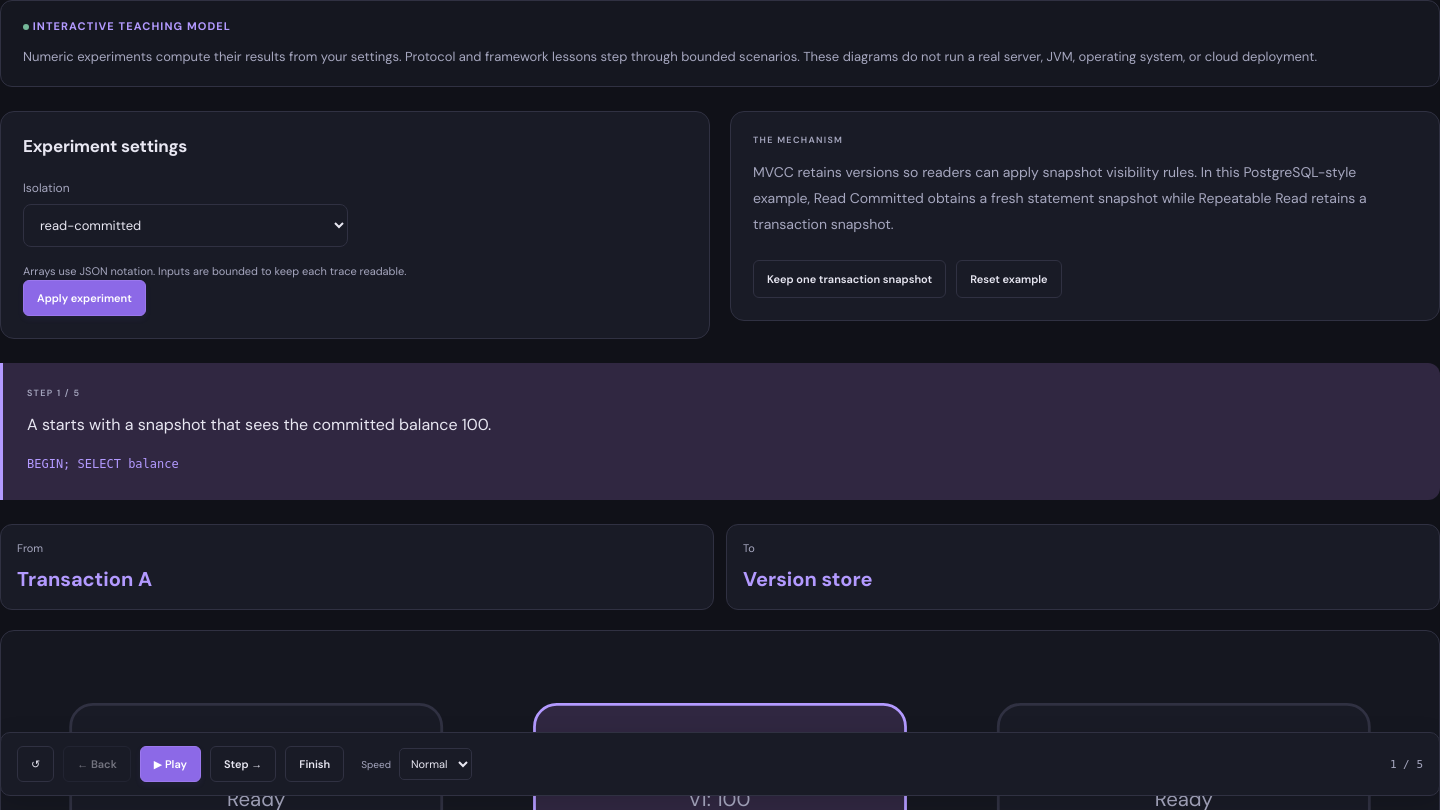
it: db-mvcc renders and supports finish, back, contrast and reset
The image size is (1440, 810).
Click the button "Finish": (315,764) [285,746,344,782]
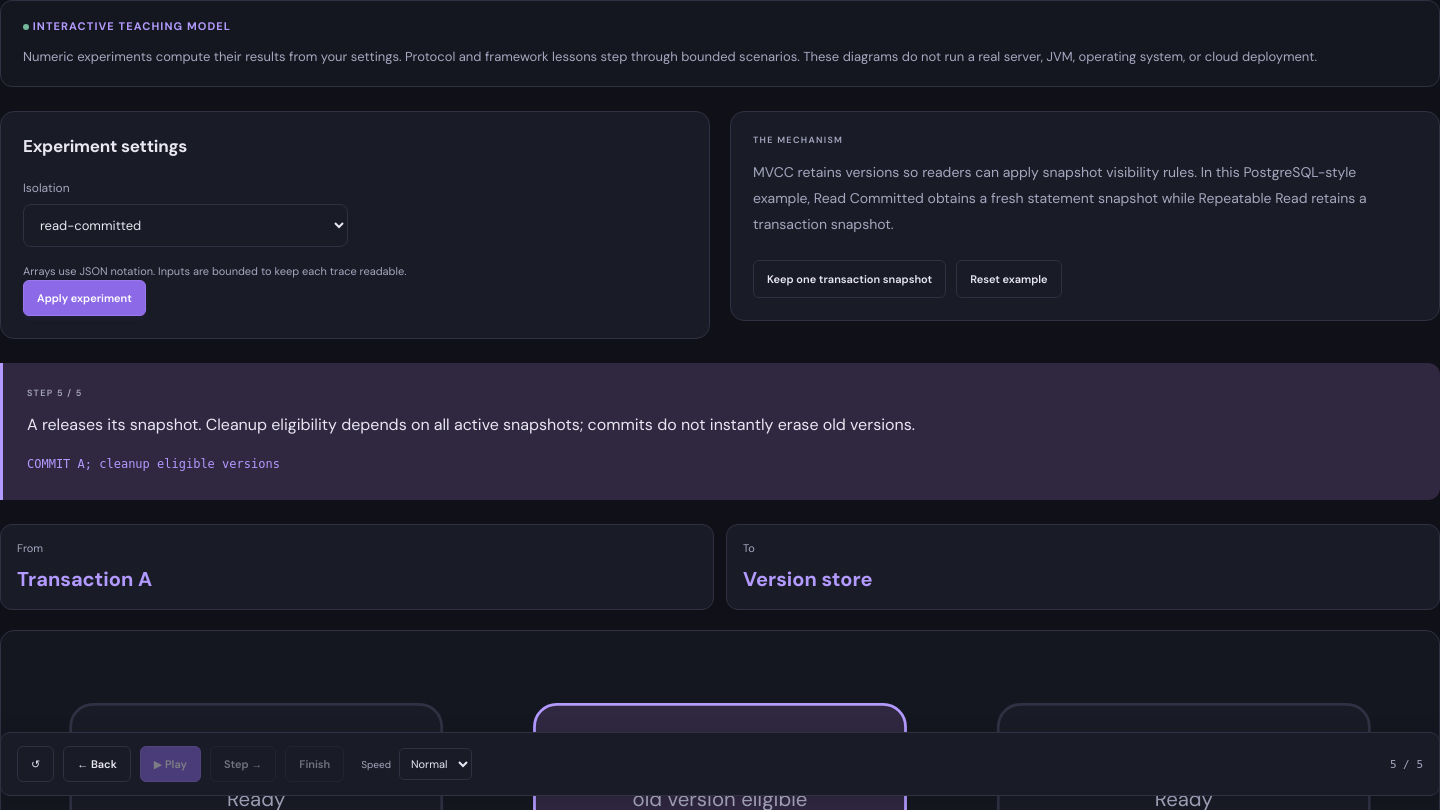
Click the button "← Back": (97,764) [63,746,131,782]
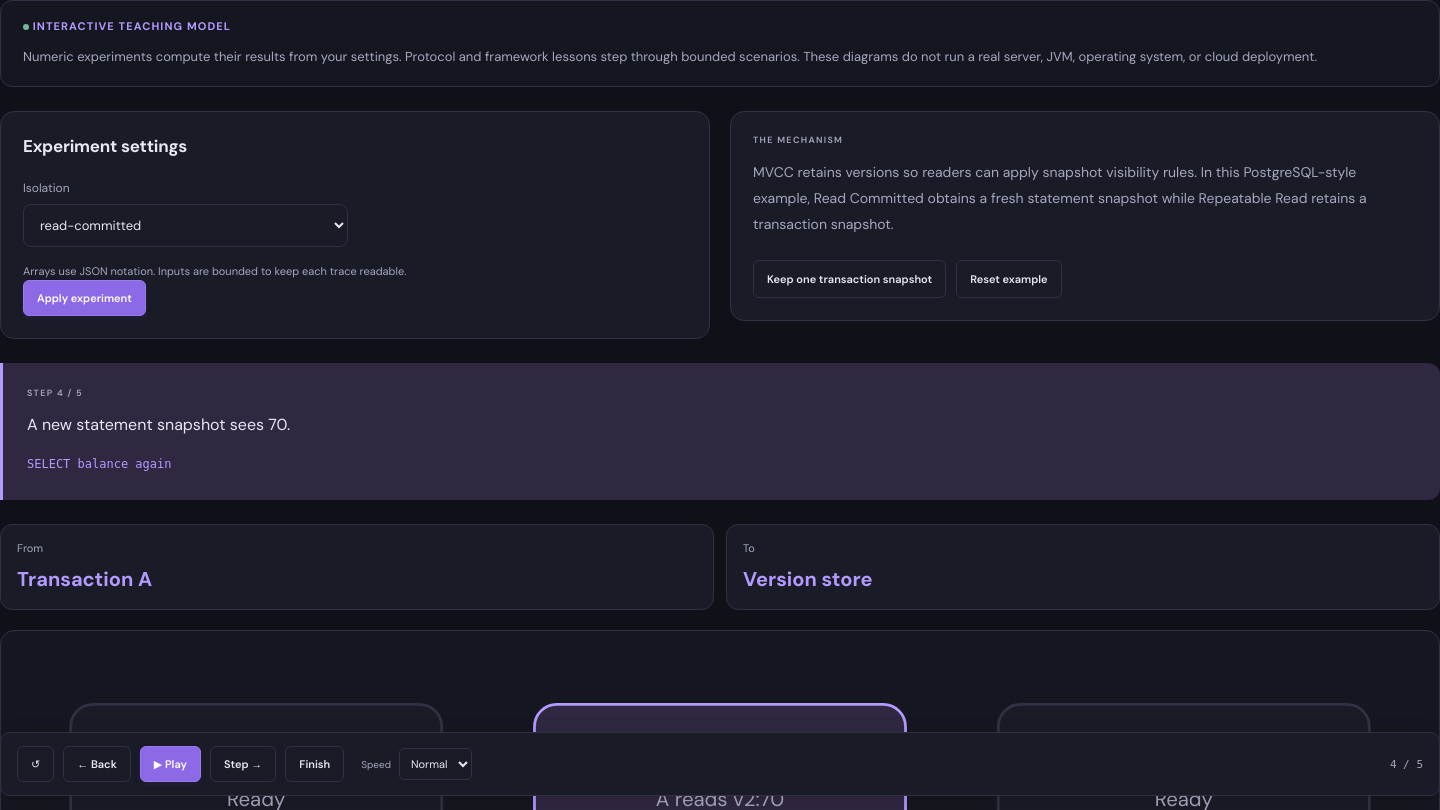
Click the button "Keep one transaction snapshot": (850,279) [753,260,946,298]
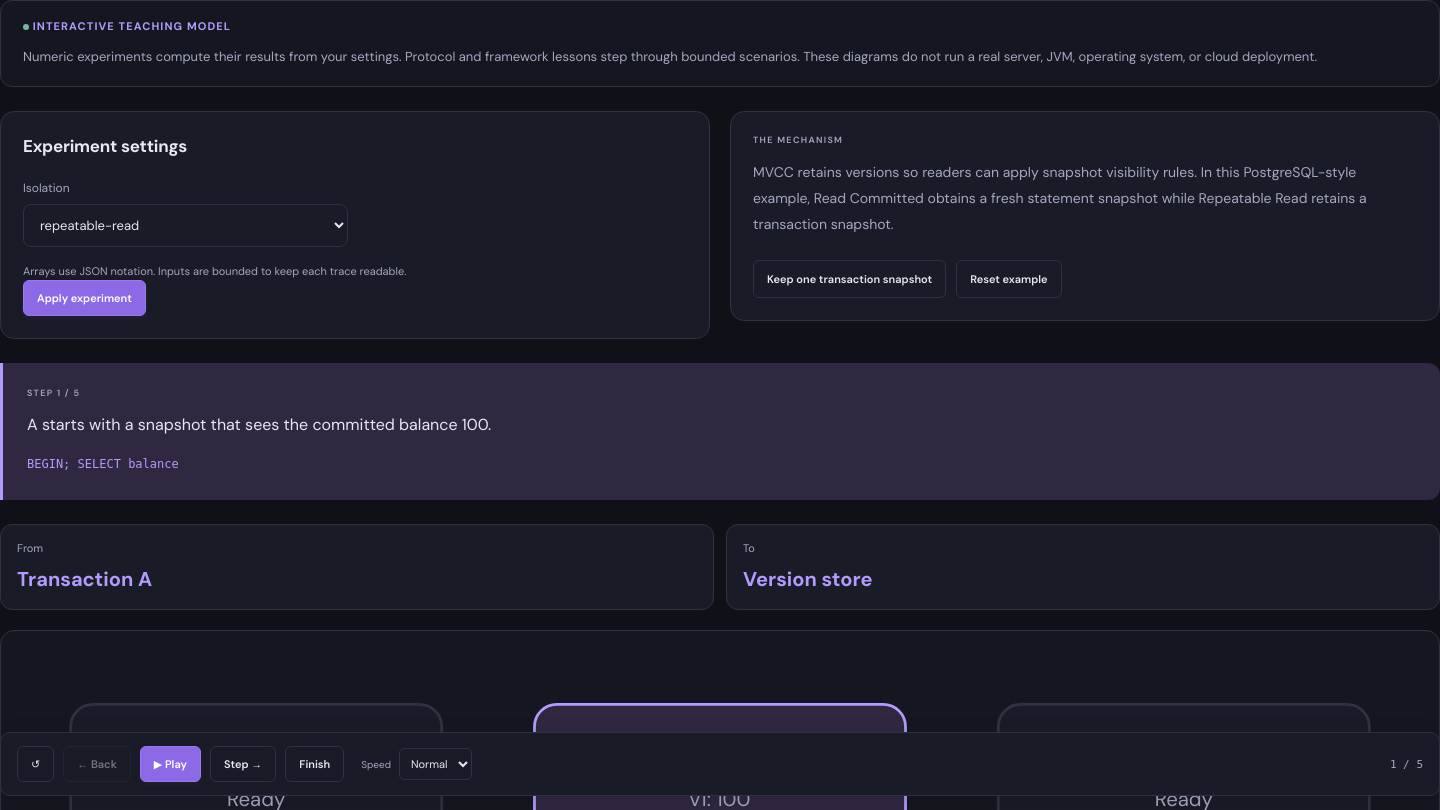
Check: the message with class "systems-current" shows "STEP 1 /", box [0,363,1439,500]
Click the button "Reset example": (1009,279) [956,260,1062,298]
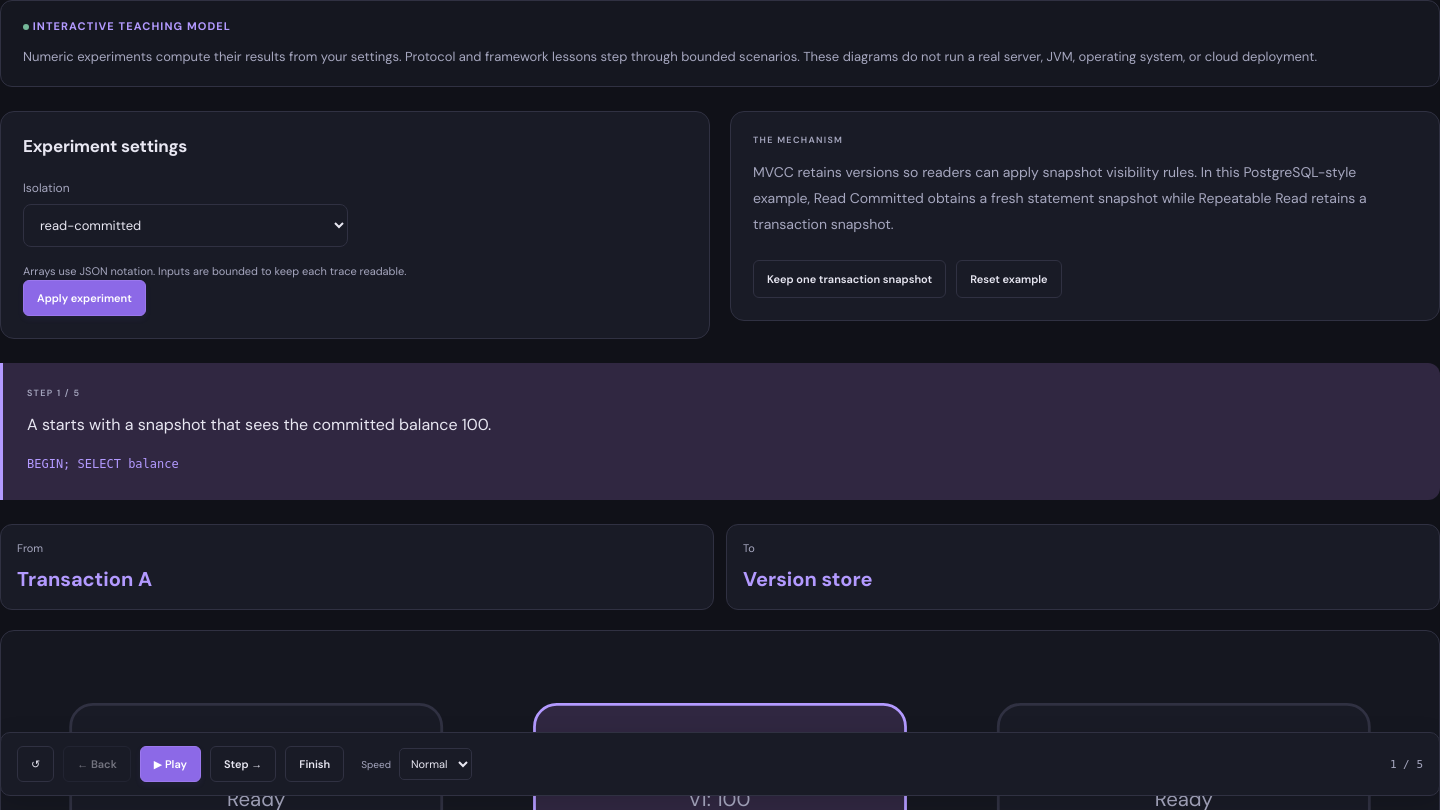
Check: the dropdown labelled "Isolation" shows "read-committed", box [23,204,348,247]
